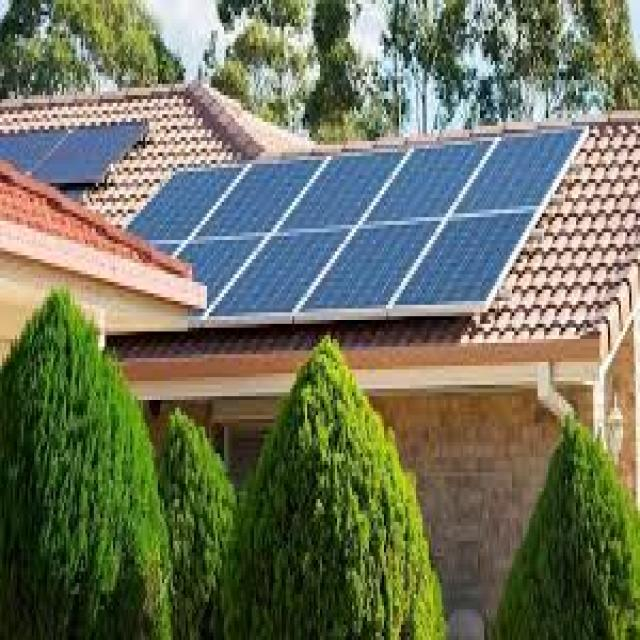clean-solar-panel: (130, 131, 585, 326)
